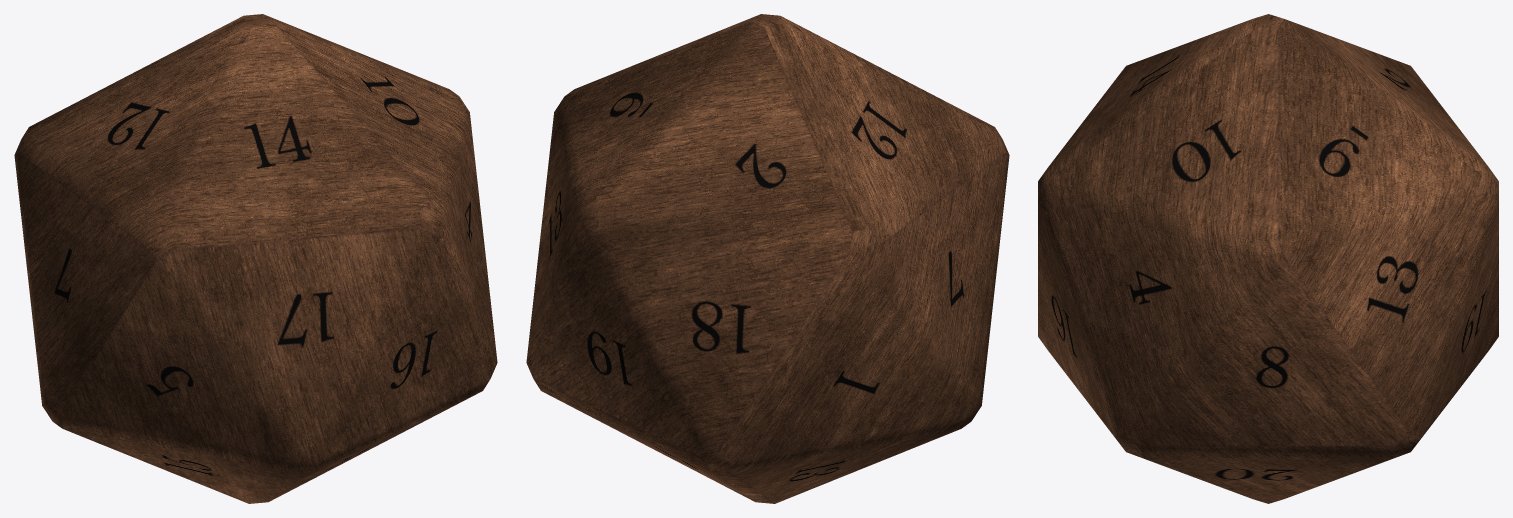
3 views of the same model, side by side, from view 1: azimuth 30°, elevation 25°; view 2: azimuth 150°, elevation 25°; view 3: azimuth 270°, elevation 25° (orthographic).
Parts seen in each view (by area): view 1: Icosphere; view 2: Icosphere; view 3: Icosphere.
Boxes of the visible parts, x1,y1,x2,y2 form: Icosphere: (14,14,497,503); Icosphere: (526,14,1009,503); Icosphere: (1038,14,1498,503).
Size of the model in its own units: 176 by 191 by 167.
1 material, 1 textured.
